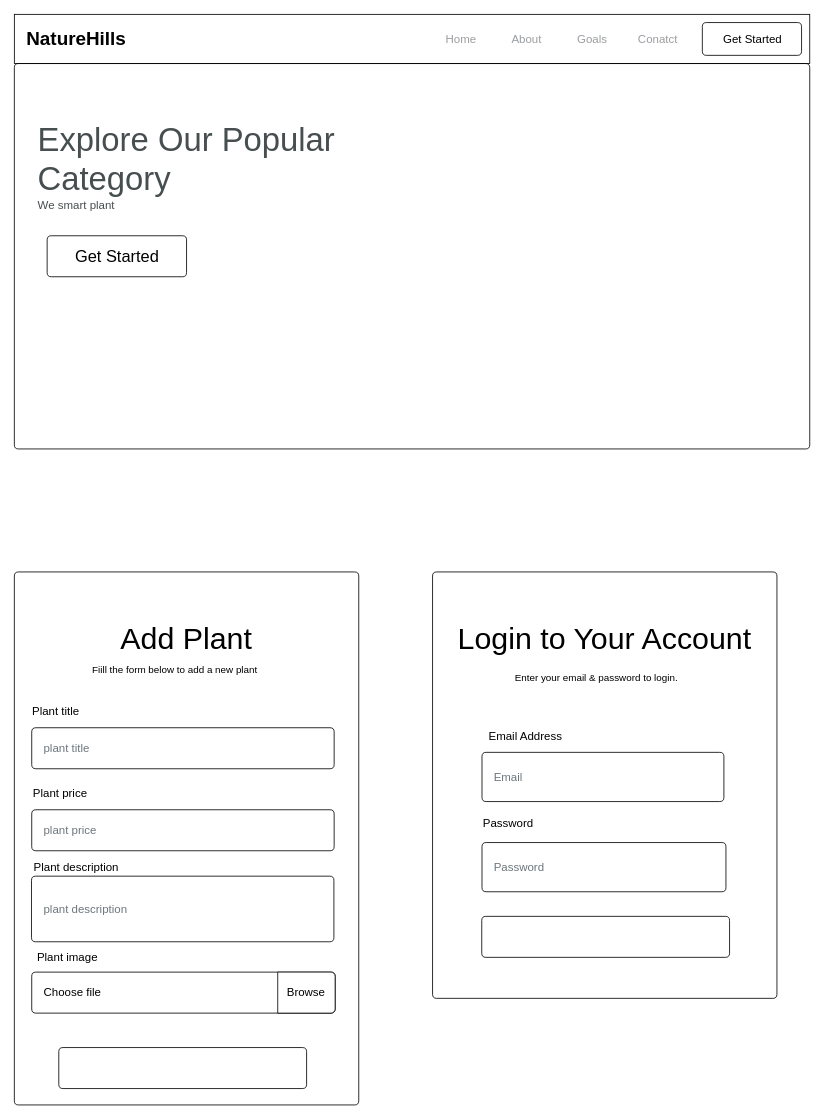
This 824x1119 diagram has some shape labels left out. Here are the shapes that lost their labels. From the top down, the centre of each, then its label:
[605,936]: Login
[182,1068]: Register
